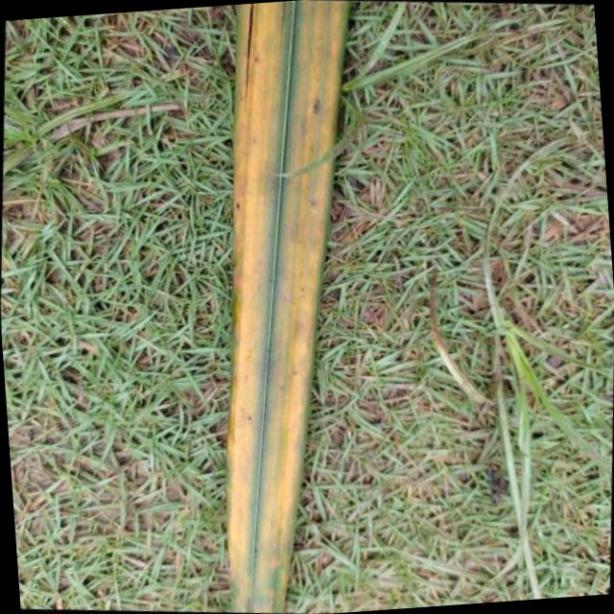Megnesium: (228, 0, 352, 614)
